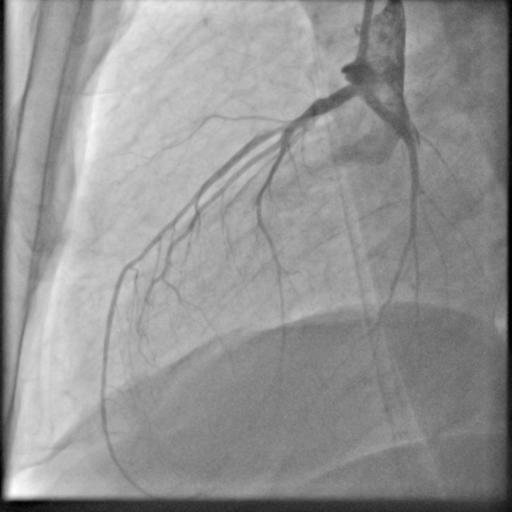Stenosis: (286, 109, 312, 128)
